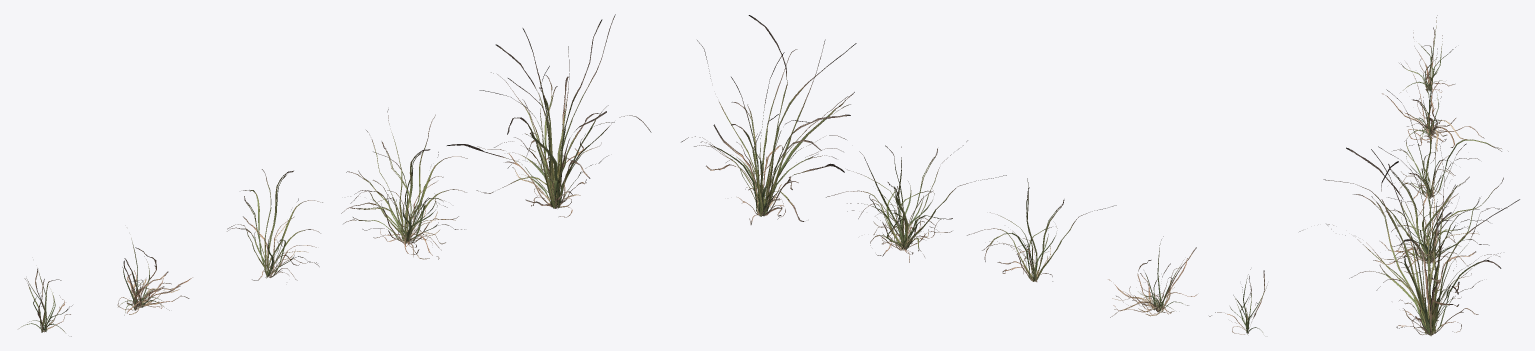
File: grass_medium_02.glb
The picture shows the model from 3 angles, left to right: view 1: azimuth 30°, elevation 25°; view 2: azimuth 150°, elevation 25°; view 3: azimuth 270°, elevation 25°; orthographic projection. The views are drawn at different scales.
Parts seen in each view (by area): view 1: grass_medium_02_e, grass_medium_02_d, grass_medium_02_c, grass_medium_02_b, grass_medium_02_a; view 2: grass_medium_02_e, grass_medium_02_d, grass_medium_02_c, grass_medium_02_b, grass_medium_02_a; view 3: grass_medium_02_e, grass_medium_02_d, grass_medium_02_c, grass_medium_02_b, grass_medium_02_a.
Boxes of the visible parts, x1=… form: grass_medium_02_e: x1=447, y1=14, x2=651, y2=217; grass_medium_02_d: x1=341, y1=109, x2=467, y2=259; grass_medium_02_c: x1=227, y1=169, x2=322, y2=280; grass_medium_02_b: x1=117, y1=238, x2=192, y2=315; grass_medium_02_a: x1=19, y1=268, x2=72, y2=336; grass_medium_02_e: x1=681, y1=15, x2=856, y2=224; grass_medium_02_d: x1=826, y1=140, x2=1006, y2=262; grass_medium_02_c: x1=967, y1=178, x2=1116, y2=281; grass_medium_02_b: x1=1108, y1=236, x2=1197, y2=317; grass_medium_02_a: x1=1209, y1=269, x2=1267, y2=334; grass_medium_02_e: x1=1299, y1=144, x2=1519, y2=335; grass_medium_02_d: x1=1323, y1=143, x2=1503, y2=274; grass_medium_02_c: x1=1386, y1=89, x2=1508, y2=215; grass_medium_02_b: x1=1382, y1=48, x2=1484, y2=151; grass_medium_02_a: x1=1399, y1=15, x2=1455, y2=92.
Size of the model in its own units: 1.31 by 0.4053 by 0.4332.
Materials: 1 (1 with a texture image).
